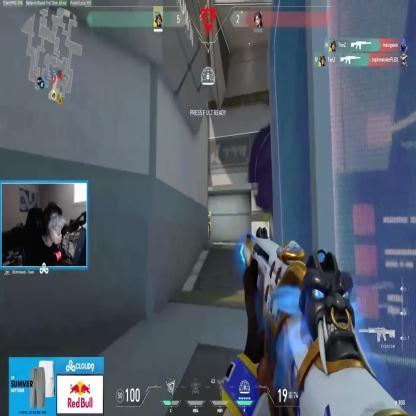enemy: (204, 207, 212, 240)
enemy_head: (206, 208, 210, 214)
